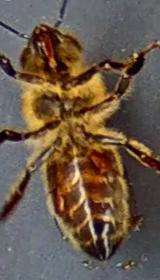varroa_mite: (76, 143, 126, 184), (40, 184, 76, 220)
